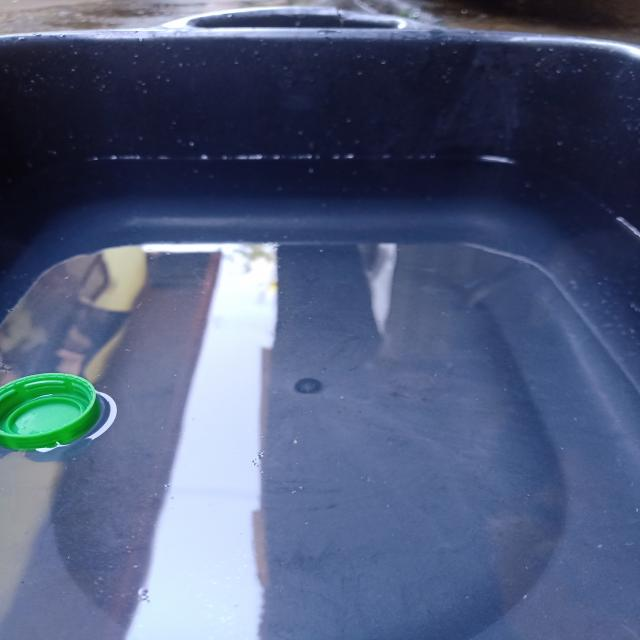Bottle Lid: (0, 368, 109, 468)
